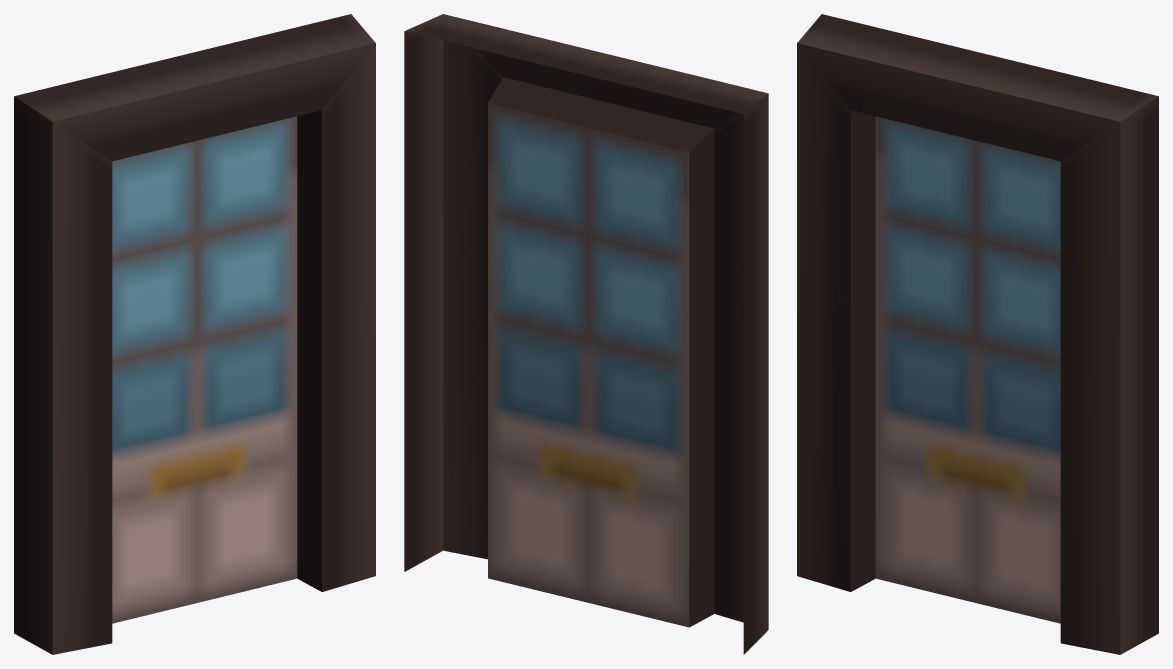
The model's file is door_v5_001.fbx.
The picture shows the model from 3 angles, left to right: view 1: azimuth 30°, elevation 25°; view 2: azimuth 150°, elevation 25°; view 3: azimuth 330°, elevation 25°; orthographic projection.
Parts seen in each view (by area): view 1: door_v5_001; view 2: door_v5_001; view 3: door_v5_001.
Part boxes in pixels (x1,y1,x2,y2): door_v5_001: (14, 14, 375, 654); door_v5_001: (404, 14, 768, 654); door_v5_001: (797, 14, 1158, 654).
Size of the model in its own units: 118 by 179 by 20.9.
